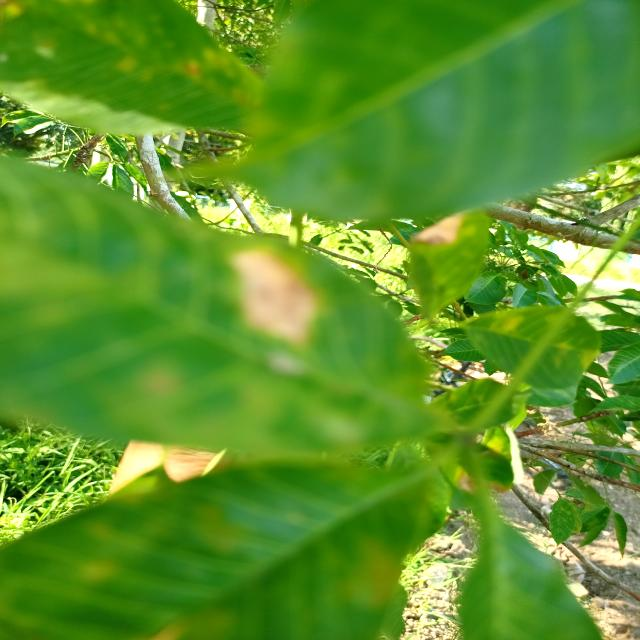Leaf-Blight: (232, 248, 317, 342), (414, 212, 463, 245)
